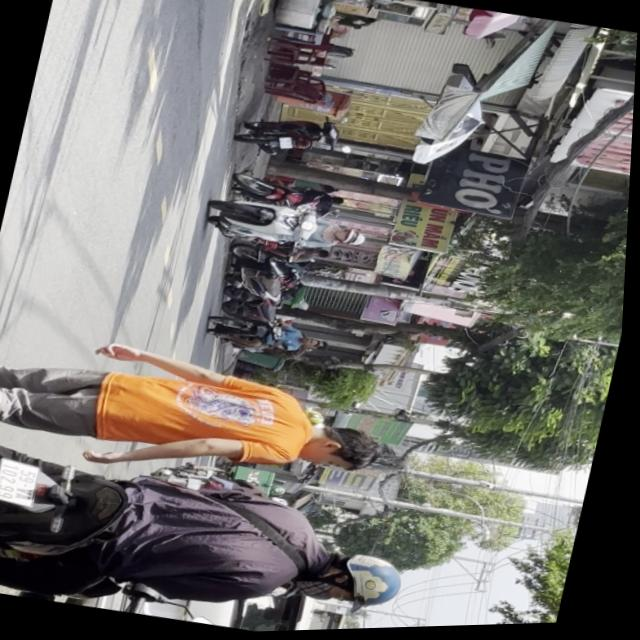helmet: (312, 546, 415, 618), (335, 227, 371, 249)
licenseplate: (0, 417, 437, 640), (201, 189, 376, 266)
nohelmet: (0, 457, 46, 507)
